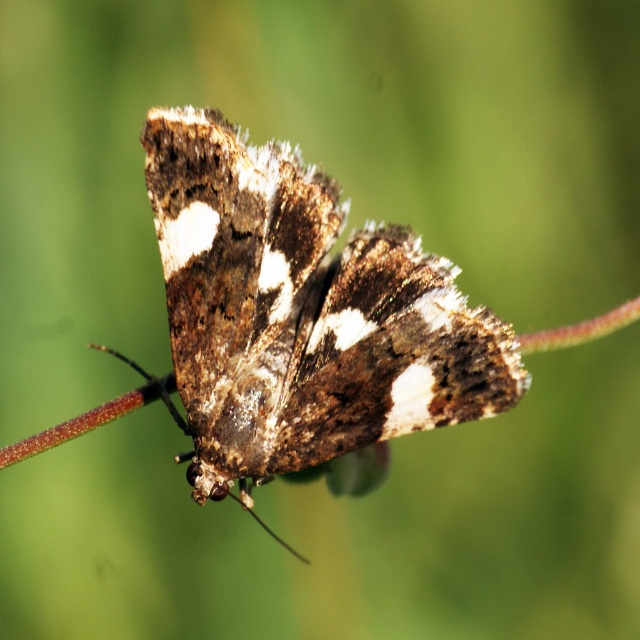Moths and butterflies: (86, 103, 532, 568)
